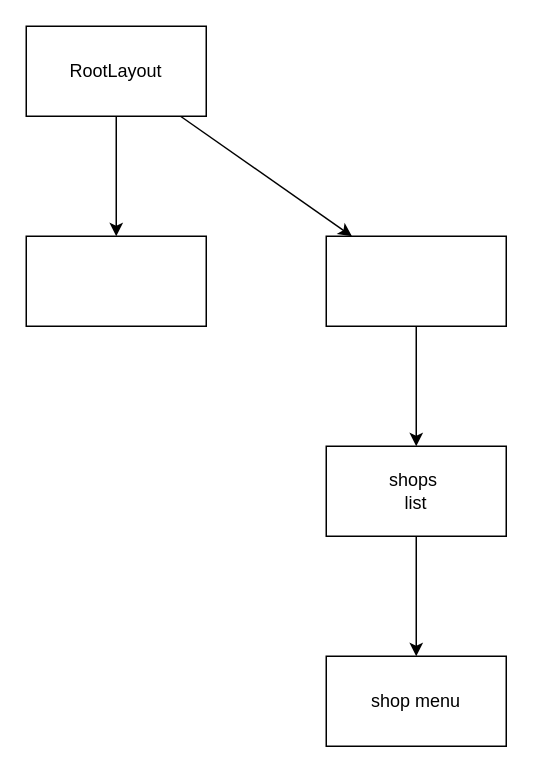
The diagram is 533 pixels wide and 773 high, and some of its shapes have lost their labels. Each missing label, with the box of its shape:
(app): (325, 235, 506, 326)
(tap): (25, 235, 206, 326)
